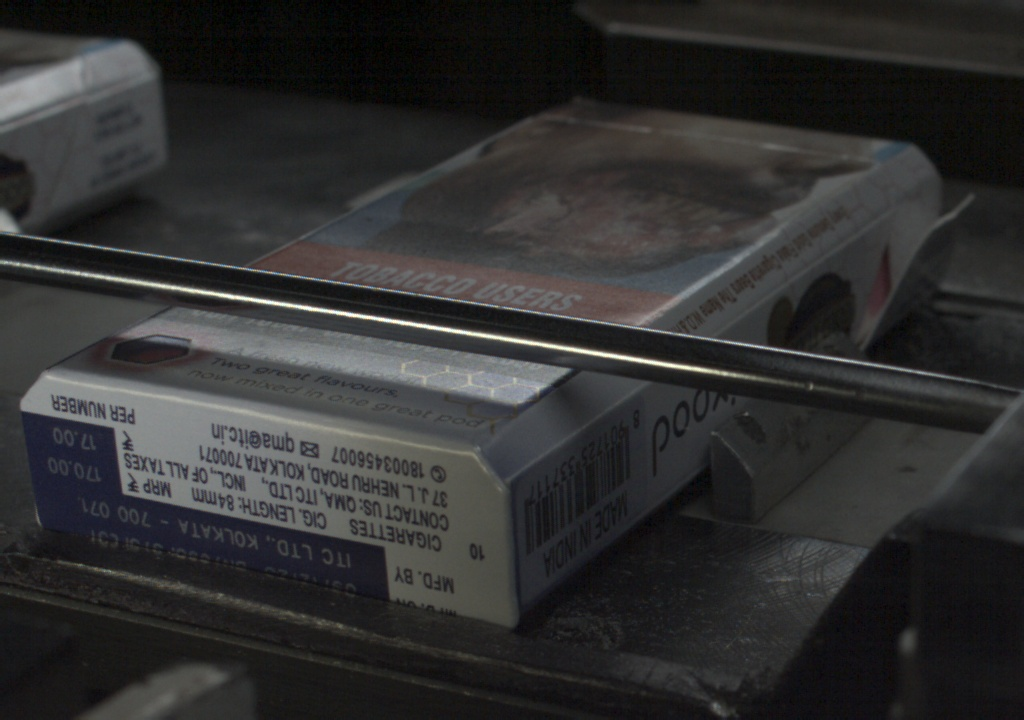g_bottom: (18, 373, 520, 631)
g_label: (30, 493, 388, 598)
g_lmiter: (714, 264, 801, 329), (801, 205, 886, 264), (504, 434, 569, 487), (570, 383, 640, 430)
ng_miter: (894, 167, 973, 246)
price: (27, 423, 119, 491)
